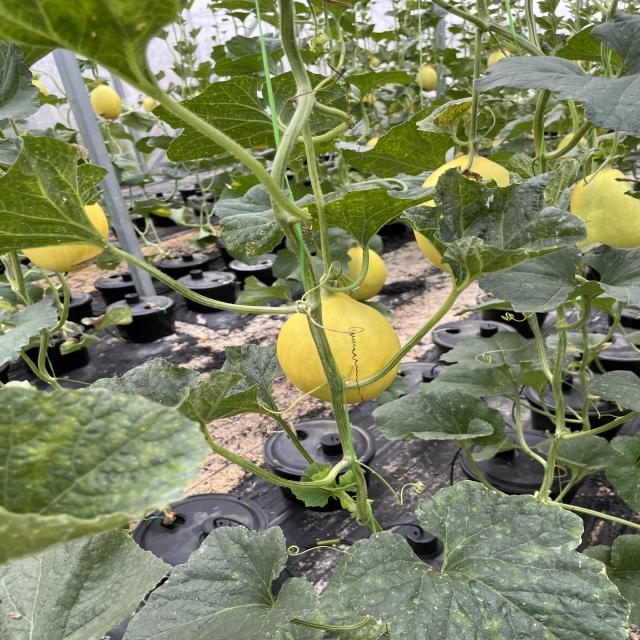CMV: (358, 121, 438, 173)
SLCV: (398, 166, 590, 278)
alternaria leaf blight: (417, 95, 483, 136)
downy mildew: (338, 478, 630, 640), (471, 7, 640, 146), (124, 525, 317, 640), (0, 122, 118, 265), (75, 354, 264, 419), (145, 73, 276, 164), (310, 184, 435, 241), (216, 201, 305, 259), (226, 347, 296, 399)
powdery mildew: (397, 158, 591, 292), (476, 243, 640, 321)
